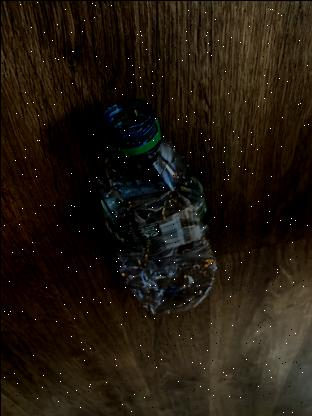Plastic Bottle: (95, 99, 217, 315)
